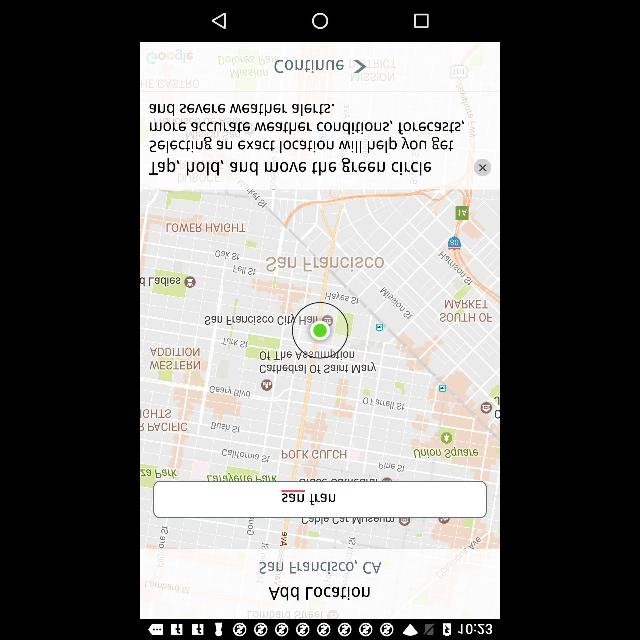icon: (310, 12, 330, 30), (210, 12, 228, 30), (414, 12, 430, 30), (354, 59, 366, 75), (478, 162, 488, 172)
input: (154, 480, 486, 518)
map: (140, 188, 500, 548)
panel: (141, 1, 499, 42)
text: (148, 120, 468, 154), (260, 559, 382, 601), (148, 162, 434, 176), (150, 102, 338, 116), (280, 490, 338, 506), (276, 59, 344, 72)
textbutton: (140, 40, 500, 92)
uppertaskbar: (141, 620, 499, 640)
